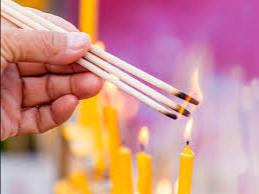controlled_fire: (128, 56, 220, 160)
